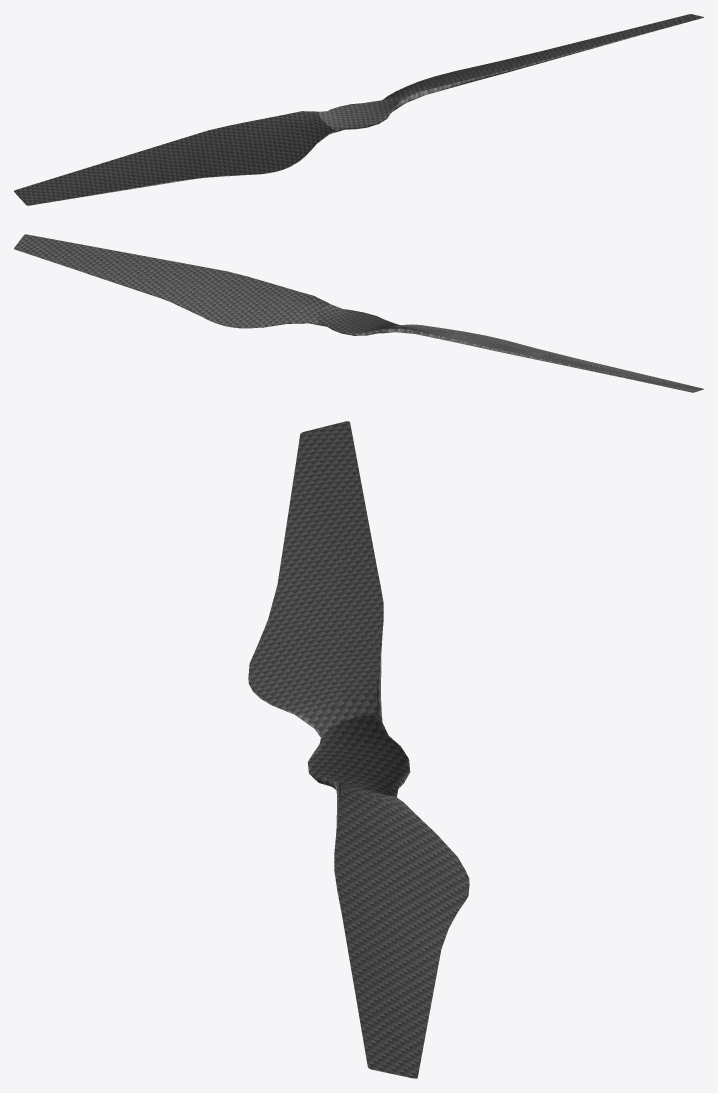
Rendered from tarot_t650_prop_low_poly.dae.
The picture shows the model from 3 angles, top to bottom: view 1: azimuth 30°, elevation 25°; view 2: azimuth 150°, elevation 25°; view 3: azimuth 270°, elevation 25°; orthographic projection. The views are drawn at different scales.
Visible parts, largest first — view 1: Object028; view 2: Object028; view 3: Object028.
Boxes of the visible parts, bbox=[...] form: Object028: bbox=[14, 14, 703, 205]; Object028: bbox=[14, 234, 703, 392]; Object028: bbox=[248, 421, 469, 1078].
Bounding box in the file's own units: 388 × 55.99 × 12.58.
1 material, 1 textured.
